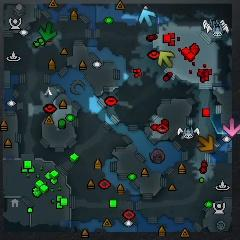x1: (222, 118, 240, 137)
x2: (158, 51, 175, 69)
x3: (138, 9, 157, 27)
x4: (39, 23, 57, 41)
x5: (198, 135, 214, 151)
